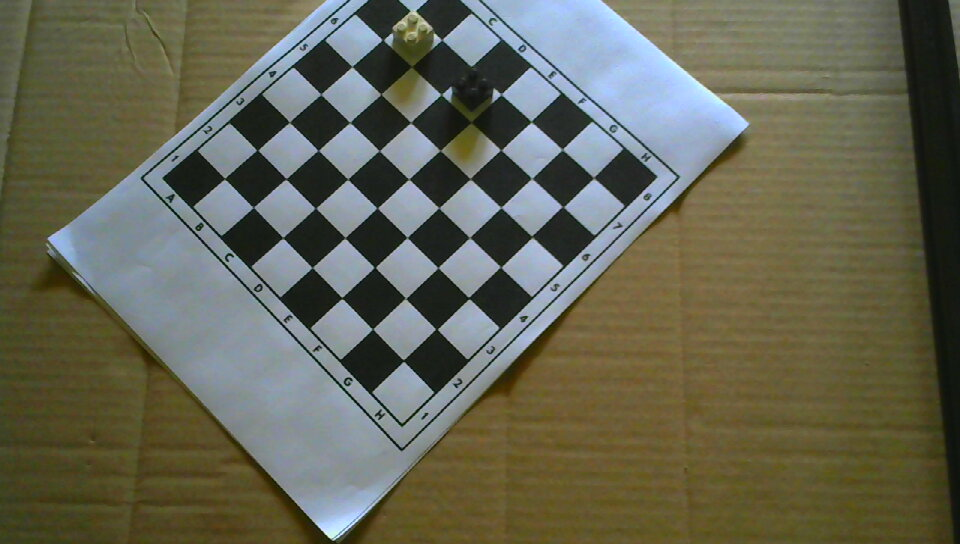bp: (451, 65, 495, 112)
wp: (392, 9, 435, 56)
